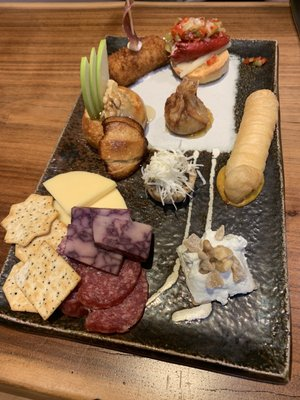curry: (1, 1, 300, 350)
